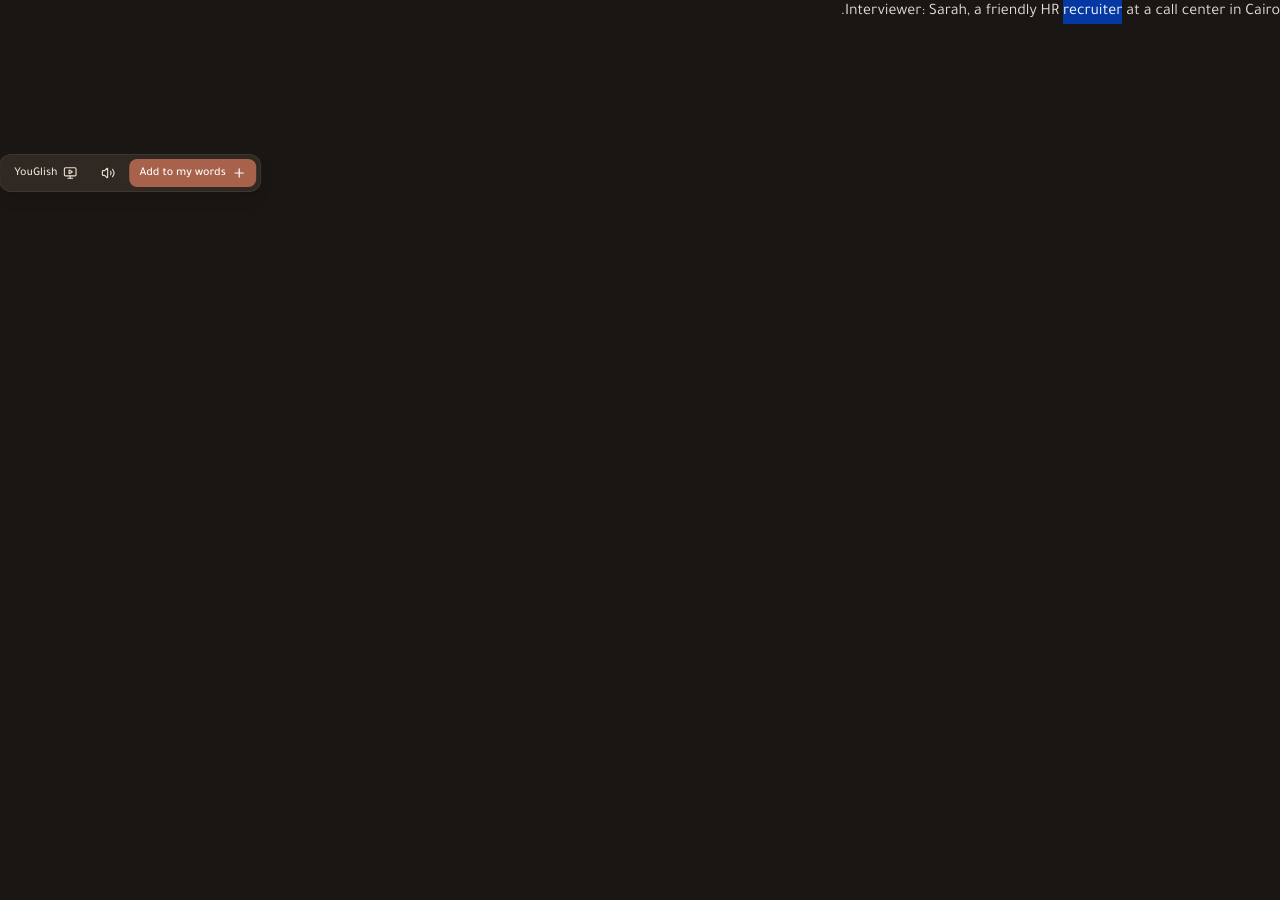
Test case: SelectionWordMenu › adds a selected word with the sentence it was in, to the group of that part of the app
Expected: the element named "Selected: recruiter" is shown, [0, 154, 261, 192]
Click the button "Add to my words": x=193, y=173 [130, 159, 256, 187]
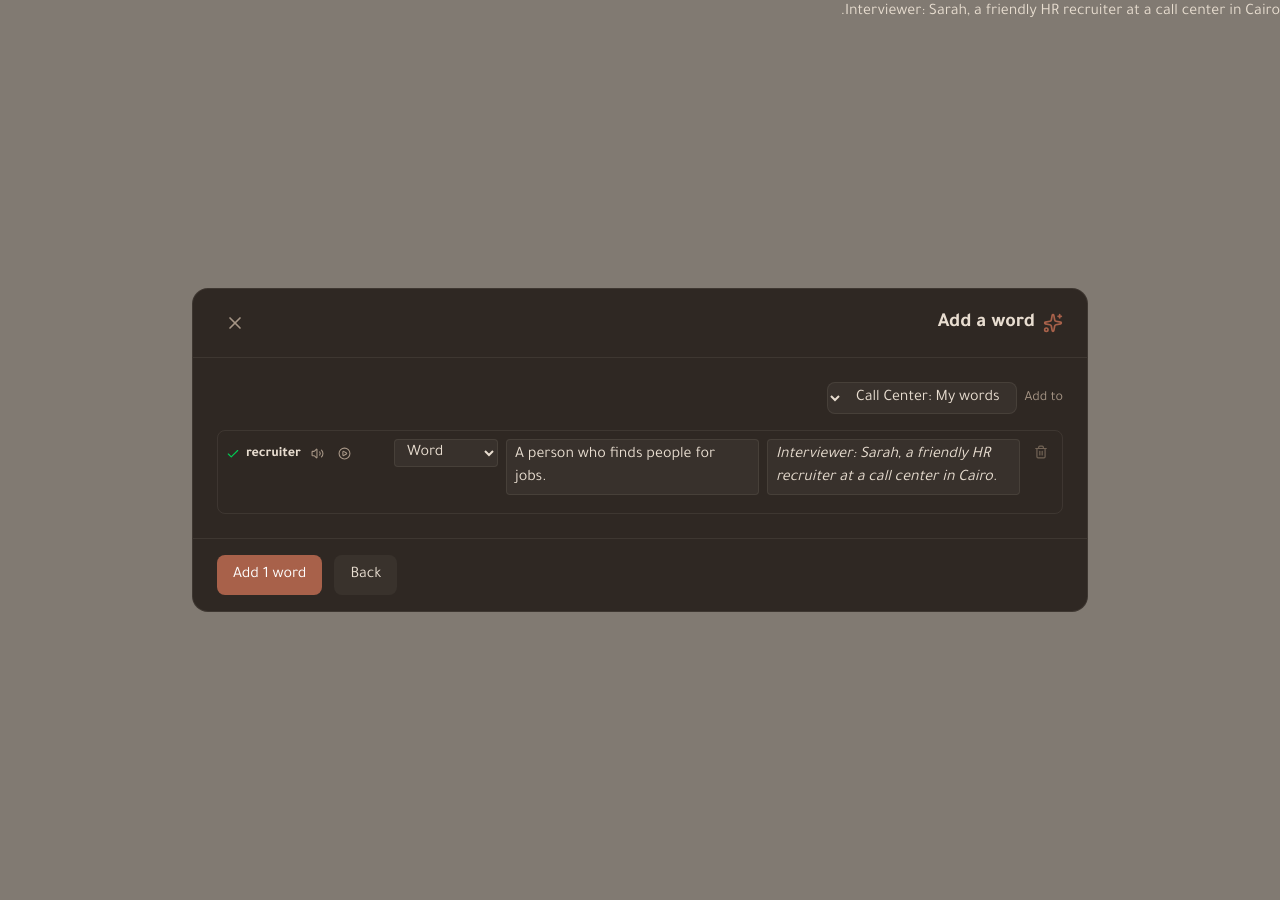
Now the 1st text box showing "A person who finds people for jobs." is shown, box [506, 439, 759, 495]
Now the 2nd text box showing "Interviewer: Sarah, a friendly HR recruiter at a call center in Cairo." is shown, box [767, 439, 1020, 495]
Now the dropdown next to "Add to" shows "Call Center: My words", box [827, 382, 1017, 414]
